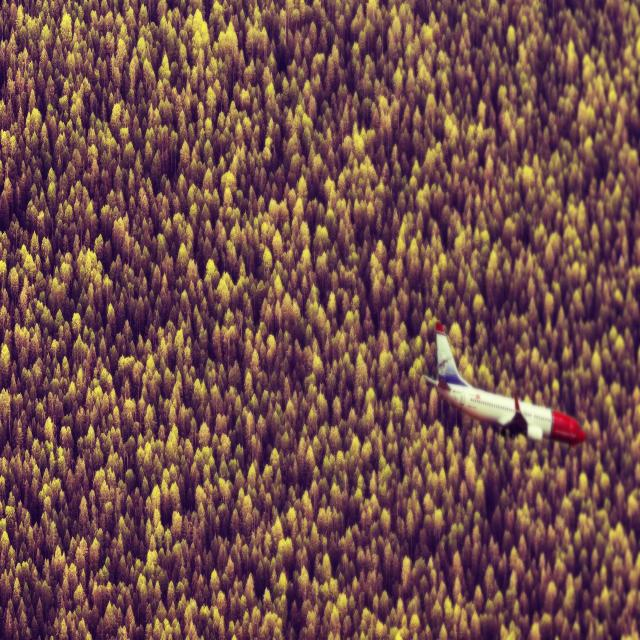airplane: (421, 320, 587, 450)
